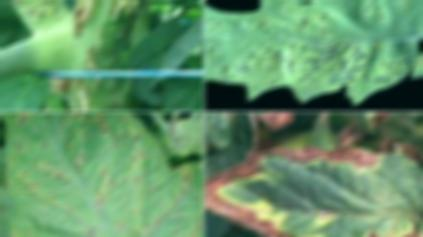Tomato leaf bacterial spot: (209, 121, 423, 237), (0, 116, 193, 237), (205, 0, 423, 100)
